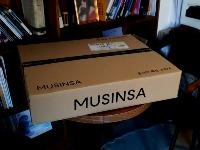undamaged: (15, 29, 183, 124)
